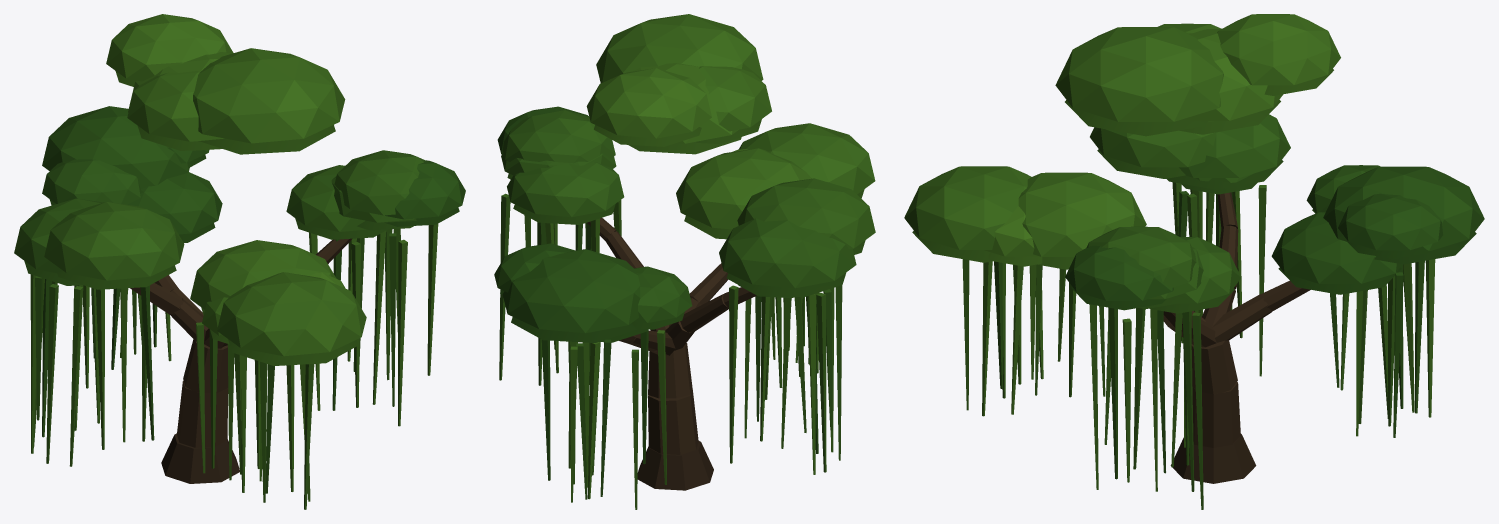
File: tree_willow_2.glb
The picture shows the model from 3 angles, left to right: view 1: azimuth 30°, elevation 25°; view 2: azimuth 150°, elevation 25°; view 3: azimuth 270°, elevation 25°; orthographic projection. The views are drawn at different scales.
Parts seen in each view (by area): view 1: leaf, wood; view 2: leaf, wood; view 3: leaf, wood.
Boxes of the visible parts, left/top/right/bottom form: leaf: left=14, top=14, right=465, bottom=509; wood: left=130, top=238, right=352, bottom=483; leaf: left=494, top=14, right=875, bottom=509; wood: left=587, top=218, right=756, bottom=490; leaf: left=904, top=14, right=1484, bottom=509; wood: left=1163, top=192, right=1310, bottom=483.
Size of the model in its own units: 8.2 by 8.56 by 10.16.
